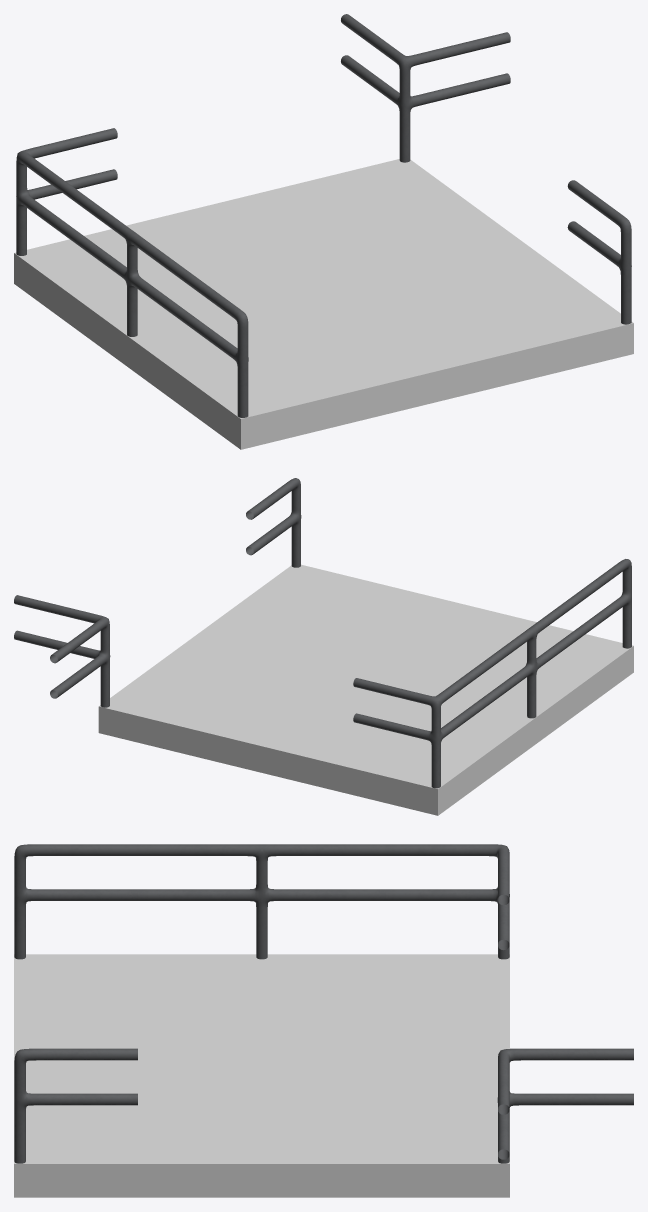
The model's file is Railing_square.fbx.
3 renders of one model, top to bottom at view 1: azimuth 30°, elevation 25°; view 2: azimuth 150°, elevation 25°; view 3: azimuth 270°, elevation 25°, orthographic. The views are drawn at different scales.
Parts seen in each view (by area): view 1: Floor, HandRailCornerOut02, HandRailCornerIn02, HandRailMid02, HandRailEndLeft02, HandRailEndRight02; view 2: Floor, HandRailCornerOut02, HandRailCornerIn02, HandRailMid02, HandRailEndRight02, HandRailEndLeft02; view 3: Floor, HandRailMid02, HandRailCornerOut02, HandRailEndRight02, HandRailCornerIn02, HandRailEndLeft02.
Part boxes in pixels (x1,y1,x2,y2): Floor: (14,159,633,449); HandRailCornerOut02: (341,14,510,162); HandRailCornerIn02: (16,128,117,255); HandRailMid02: (71,190,191,336); HandRailEndLeft02: (184,273,248,417); HandRailEndRight02: (567,180,631,324); Floor: (98,564,633,815); HandRailCornerOut02: (14,595,110,707); HandRailCornerIn02: (353,663,486,788); HandRailMid02: (480,592,584,718); HandRailEndRight02: (246,478,301,567); HandRailEndLeft02: (578,559,631,648); Floor: (14,954,509,1197); HandRailMid02: (138,844,385,959); HandRailCornerOut02: (497,1048,633,1163); HandRailEndRight02: (14,1048,137,1163); HandRailCornerIn02: (386,844,509,959); HandRailEndLeft02: (14,844,137,959).
Bounding box in the file's own units: 500 × 130 × 500.
